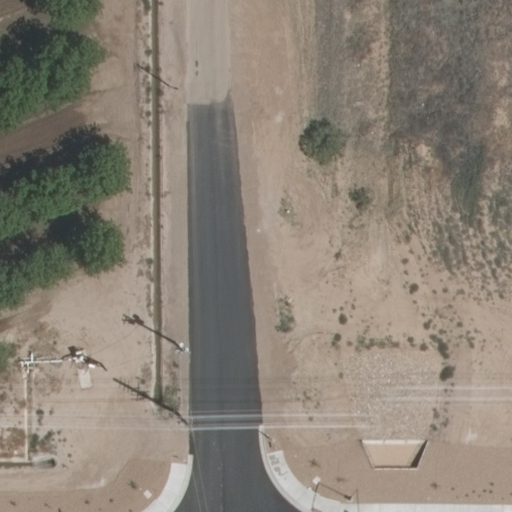DT: (158, 399, 199, 434), (158, 330, 194, 359), (162, 81, 183, 94)
